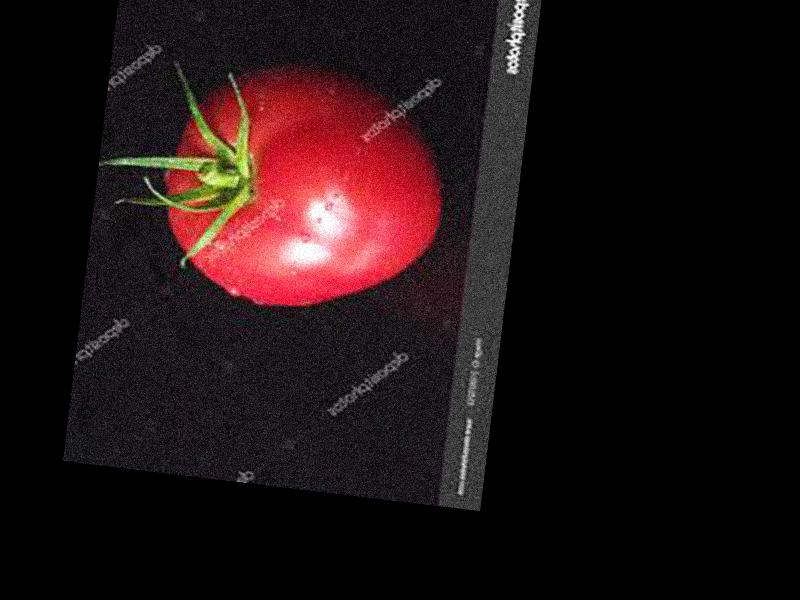Tomato: (153, 52, 455, 324)
